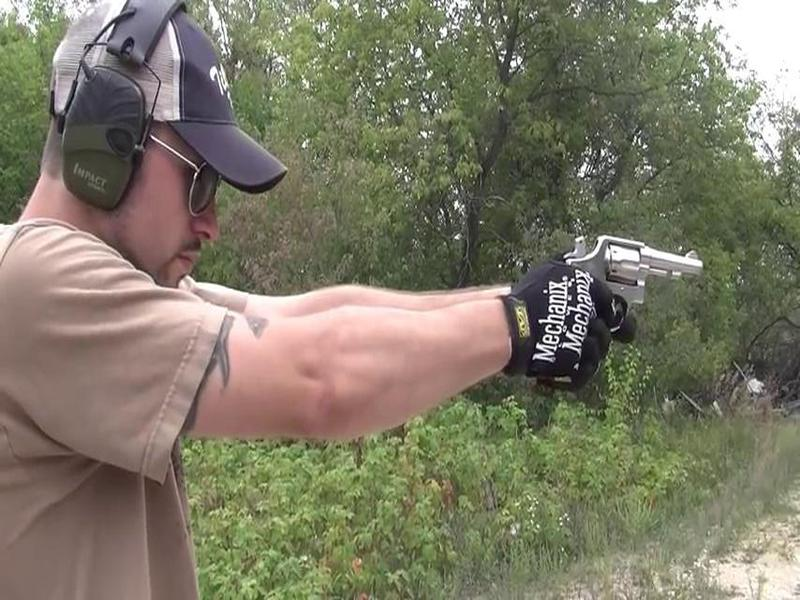Revolver: (557, 221, 710, 346)
